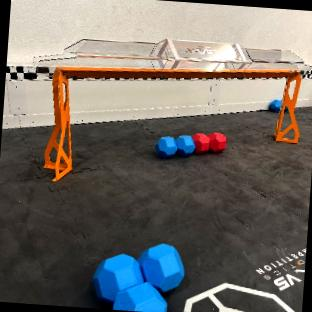V5_BLUE: (93, 243, 183, 312), (155, 135, 194, 157), (269, 99, 281, 111), (284, 106, 288, 112)
V5_RED: (192, 132, 226, 153)
